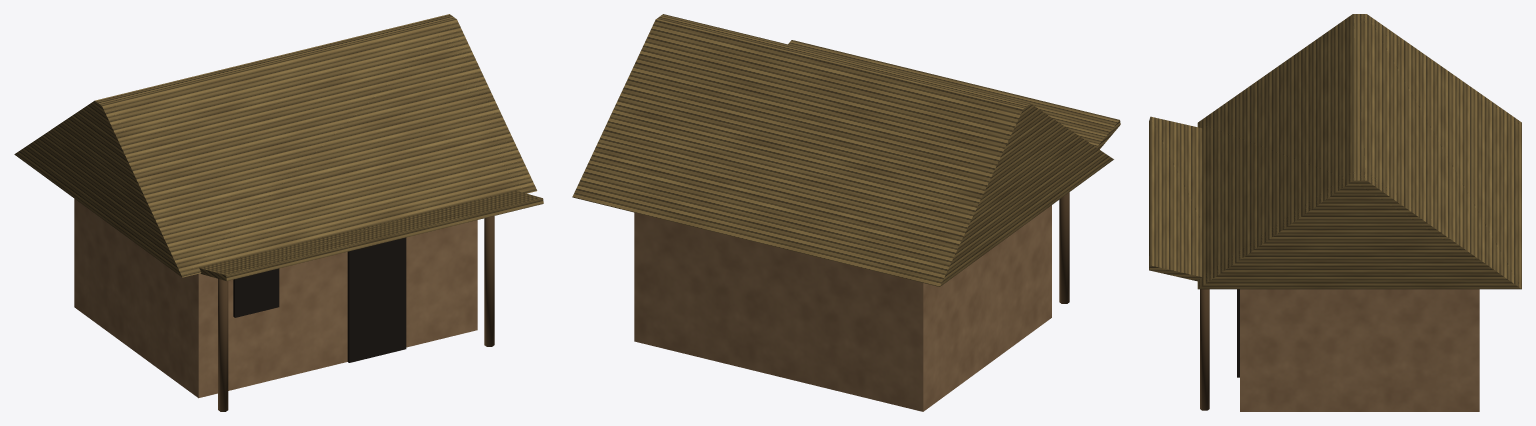
File: hut.glb
The picture shows the model from 3 angles, left to right: view 1: azimuth 30°, elevation 25°; view 2: azimuth 150°, elevation 25°; view 3: azimuth 270°, elevation 25°; orthographic projection. The views are drawn at different scales.
Visible parts, largest first — view 1: Hut; view 2: Hut; view 3: Hut.
Boxes of the visible parts, <box> form: Hut: <box>14,14,543,411</box>; Hut: <box>572,14,1120,411</box>; Hut: <box>1149,14,1521,411</box>.
Size of the model in its own units: 5.6 by 3.9 by 5.29.
4 materials, 2 textured.
